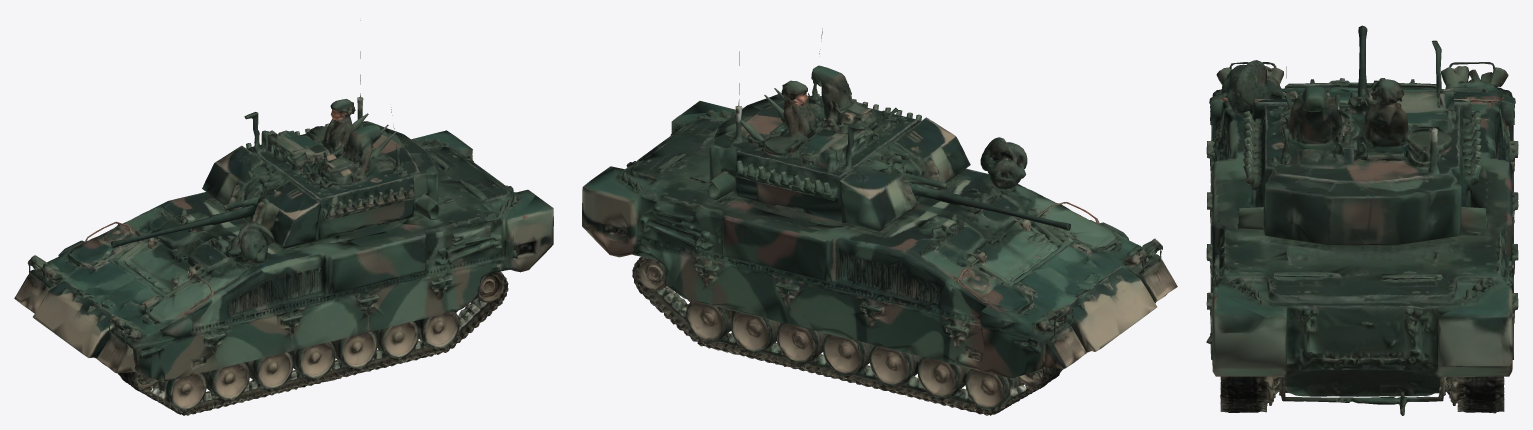
Rendered from ifv.glb.
3 renders of one model, left to right at view 1: azimuth 30°, elevation 25°; view 2: azimuth 150°, elevation 25°; view 3: azimuth 270°, elevation 25°, orthographic. The views are drawn at different scales.
Size of the model in its own units: 1.9 by 1.17 by 0.8464.
1 material, 1 textured.
